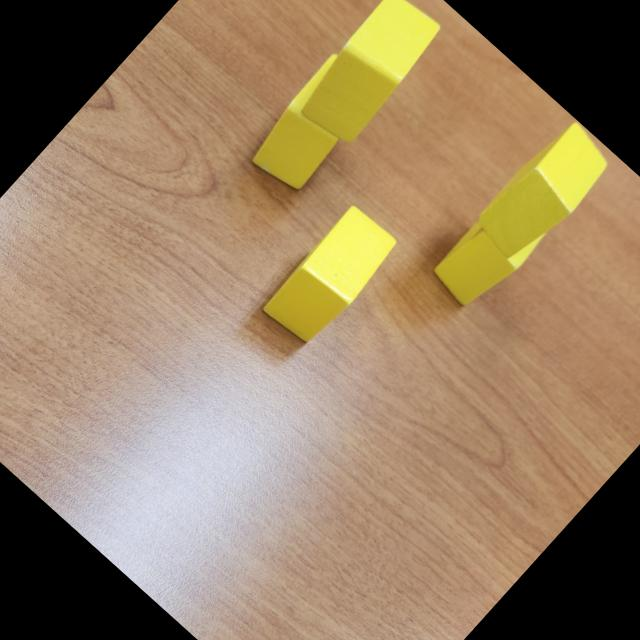yellow: (286, 0, 450, 153), (467, 114, 618, 271), (241, 49, 386, 200), (258, 202, 402, 352), (426, 188, 552, 318)
